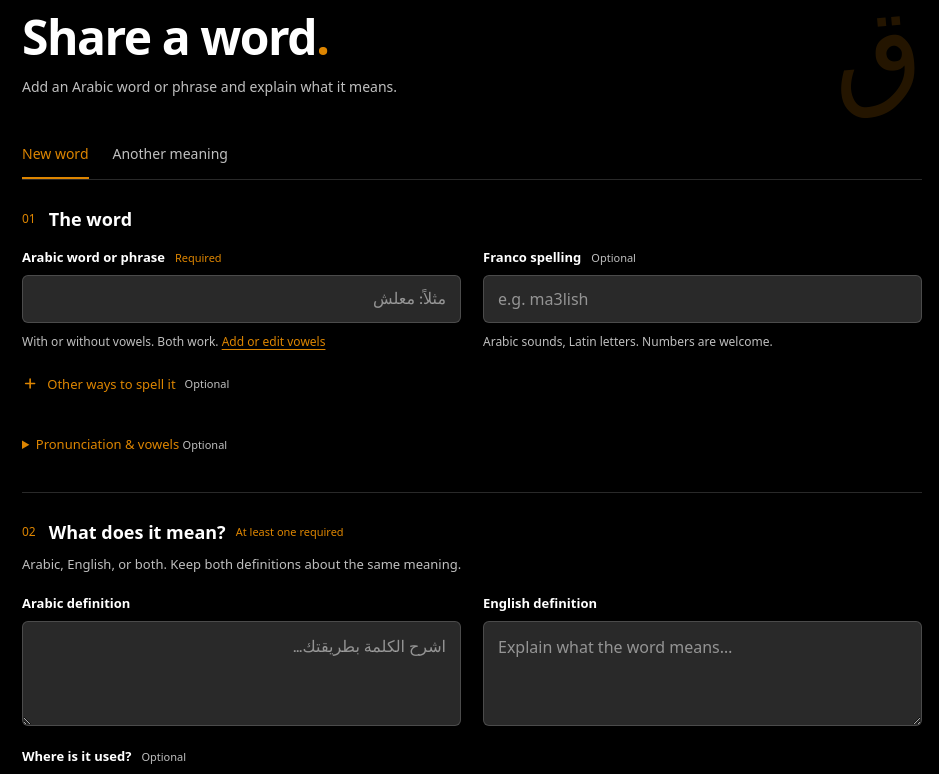
Test: contribution submission › shows optional pronunciation fields together, with a vowel example and symbol helpers
Click the button "Add or edit vowels". click: {"x": 274, "y": 341}
box: 222,332 -> 326,351
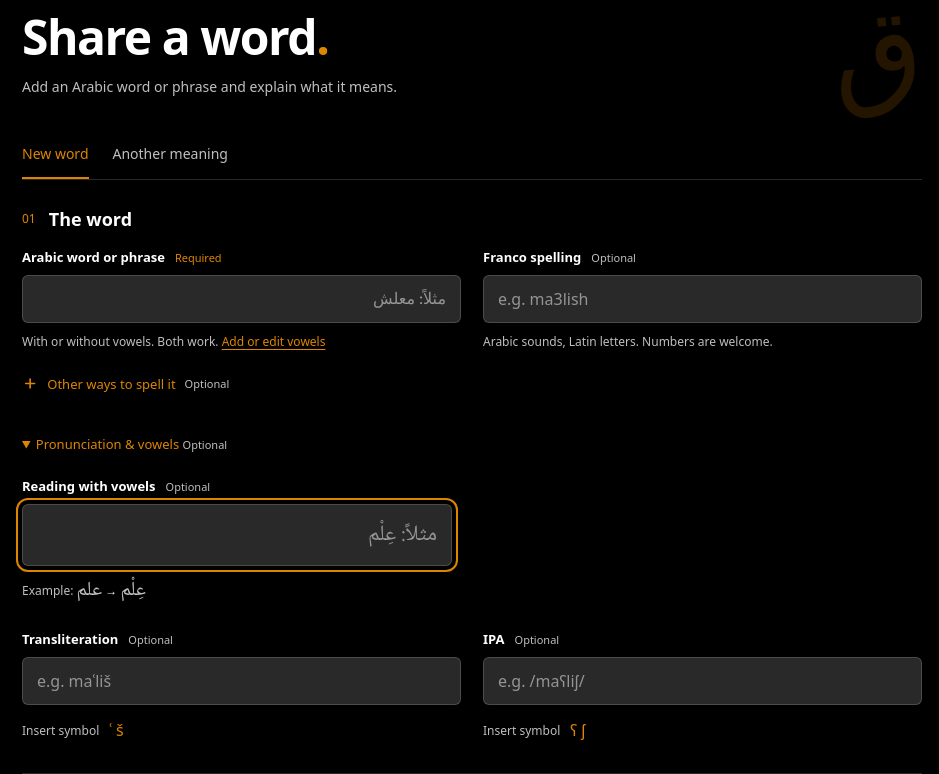
Check: the field labelled "Reading with vowels Optional" is shown, box 22,504 -> 452,566
Check: the text with class "contribute-optional" next to "Reading with vowels" reads "Optional", box 166,479 -> 210,494
Check: the field labelled "Transliteration Optional" is shown, box 22,657 -> 461,705
